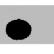correct: (4, 17, 33, 42)
